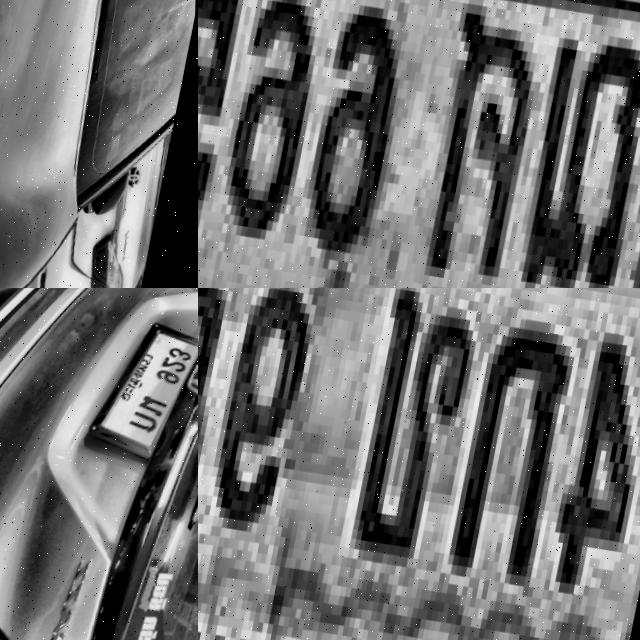license-plate: (198, 288, 640, 640), (198, 0, 640, 288), (0, 103, 53, 235), (132, 561, 198, 640)
